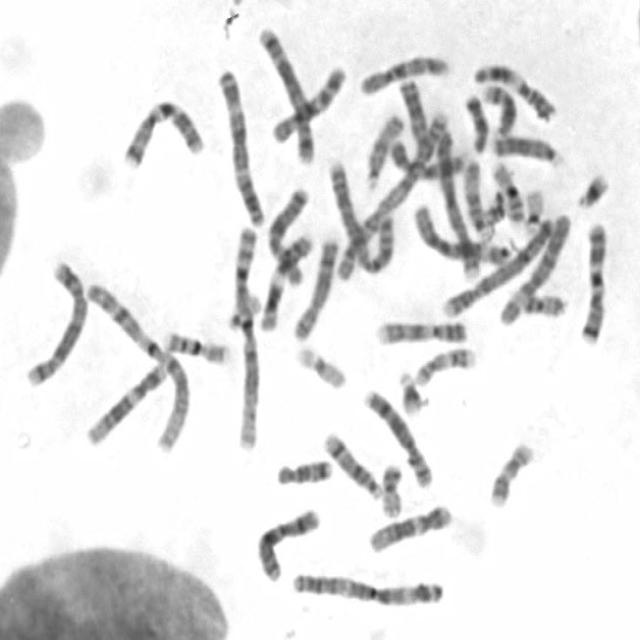A1: (80, 274, 194, 454), (226, 219, 263, 454)
A2: (330, 104, 453, 281), (323, 151, 401, 275)
A3: (213, 63, 268, 227), (288, 564, 448, 610)
B4: (435, 208, 569, 318), (432, 120, 484, 280)
B5: (20, 252, 91, 389), (253, 19, 318, 167)
C10: (268, 58, 350, 145), (354, 48, 452, 97)
C11: (258, 227, 317, 332), (470, 56, 559, 123)
C12: (80, 354, 170, 448), (364, 498, 454, 554)
C6: (492, 205, 573, 326), (408, 197, 512, 266)
C7: (118, 92, 207, 169), (575, 215, 610, 347)
C8: (359, 383, 436, 490), (286, 230, 340, 342)
C9: (384, 135, 470, 181), (371, 313, 471, 347)
D13: (486, 127, 565, 168), (394, 74, 431, 144)
D14: (319, 425, 384, 501), (479, 77, 519, 136)
D15: (361, 108, 406, 190), (457, 148, 495, 242)
E16: (158, 322, 232, 366), (487, 154, 528, 226)
E17: (484, 434, 537, 510), (411, 339, 479, 388)
E18: (272, 452, 334, 487), (460, 88, 490, 154)
F19: (290, 339, 350, 392), (519, 181, 547, 234)
F20: (376, 456, 406, 520), (516, 286, 570, 319)
G21: (570, 166, 612, 210), (394, 364, 426, 416)
G22: (223, 289, 262, 332), (475, 192, 510, 226)
X: (252, 500, 323, 583), (262, 181, 311, 286)
